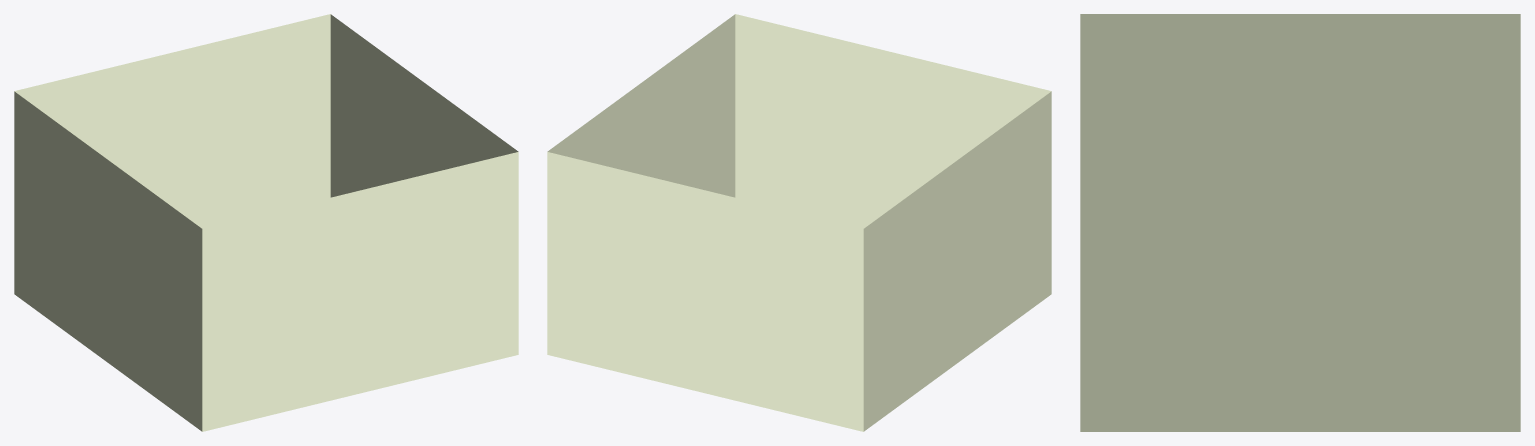
Rendered from cotf_lamp.FBX.
3 views of the same model, side by side, from view 1: azimuth 30°, elevation 25°; view 2: azimuth 150°, elevation 25°; view 3: azimuth 270°, elevation 25° (orthographic). The views are drawn at different scales.
Visible parts, largest first — view 1: cotf_lamp; view 2: cotf_lamp; view 3: cotf_lamp.
Part boxes in pixels (x1,y1,x2,y2): cotf_lamp: [14, 14, 518, 431]; cotf_lamp: [547, 14, 1051, 431]; cotf_lamp: [1080, 14, 1520, 431].
Bounding box in the file's own units: 0.1634 × 0.1176 × 0.1684.
